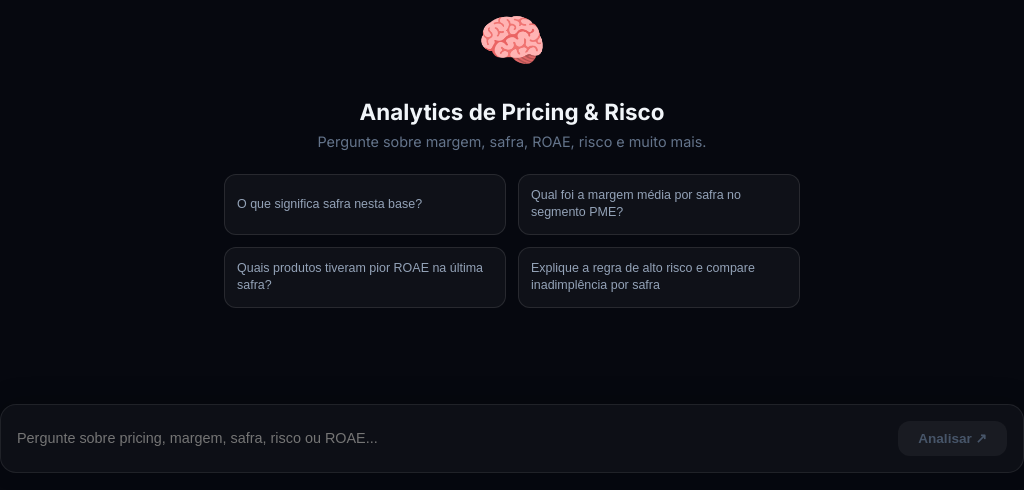
Test case: ChatPanel › Interação do usuário › habilita botão ao digitar no input
Type "Qual a margem por safra?" into the field.
click(452, 438); type("Qual a margem por safra?")  # box 17,421 -> 886,456
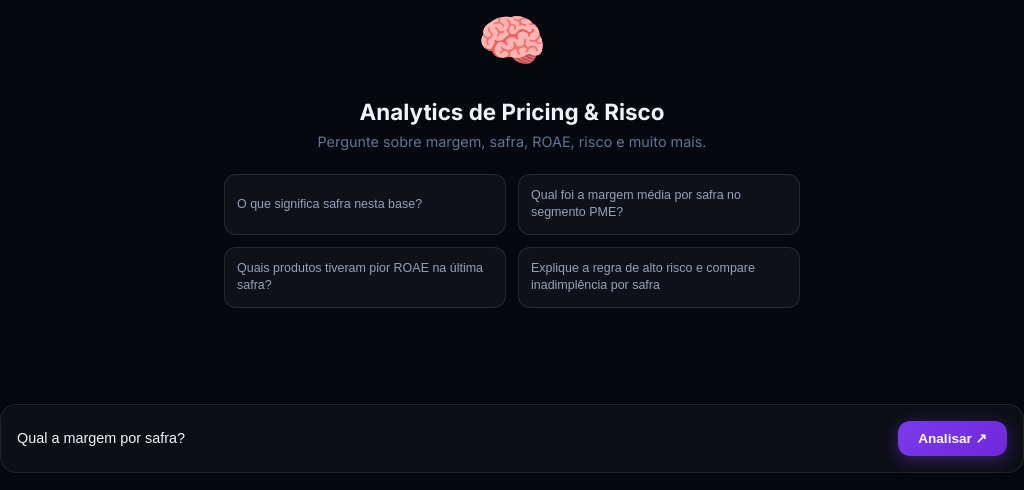
Now the button "Analisar ↗" is enabled, box 898,421 -> 1007,456
